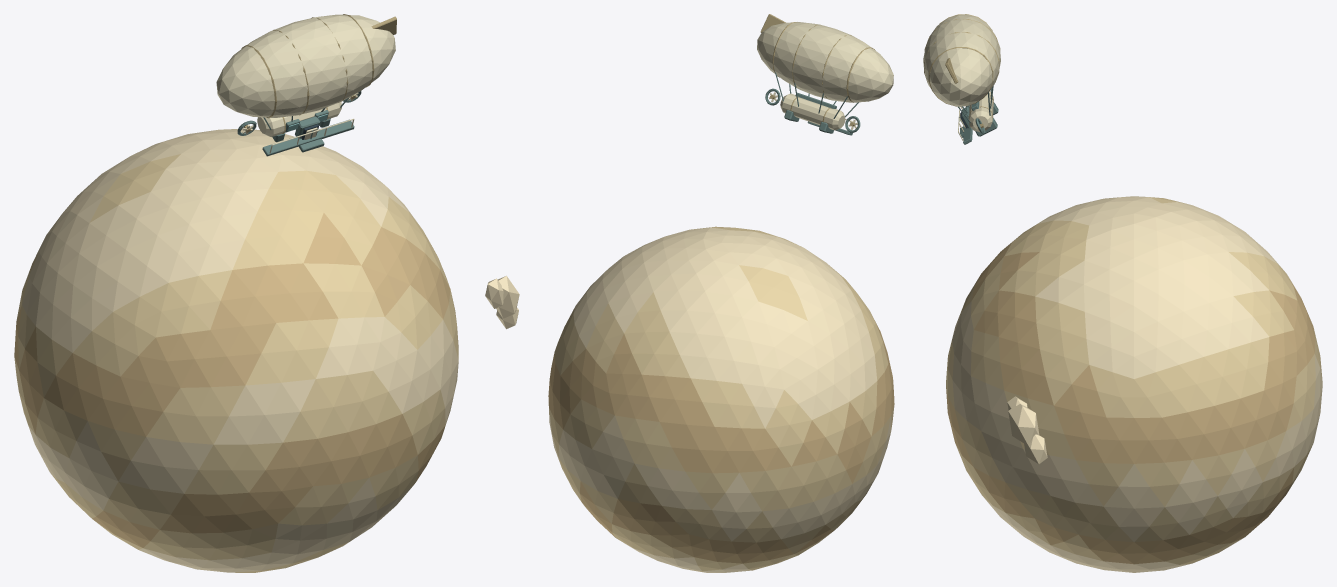
File: Venus.glb
The picture shows the model from 3 angles, left to right: view 1: azimuth 30°, elevation 25°; view 2: azimuth 150°, elevation 25°; view 3: azimuth 270°, elevation 25°; orthographic projection. The views are drawn at different scales.
Parts seen in each view (by area): view 1: S10_Venus • modeled surfaces; view 2: S10_Venus • modeled surfaces; view 3: S10_Venus • modeled surfaces.
Part boxes in pixels (box(x1,y1,x2,y2)): S10_Venus • modeled surfaces: box(14, 14, 519, 572); S10_Venus • modeled surfaces: box(548, 14, 894, 572); S10_Venus • modeled surfaces: box(923, 14, 1322, 572).
Size of the model in its own units: 1.77 by 2.48 by 1.74.
